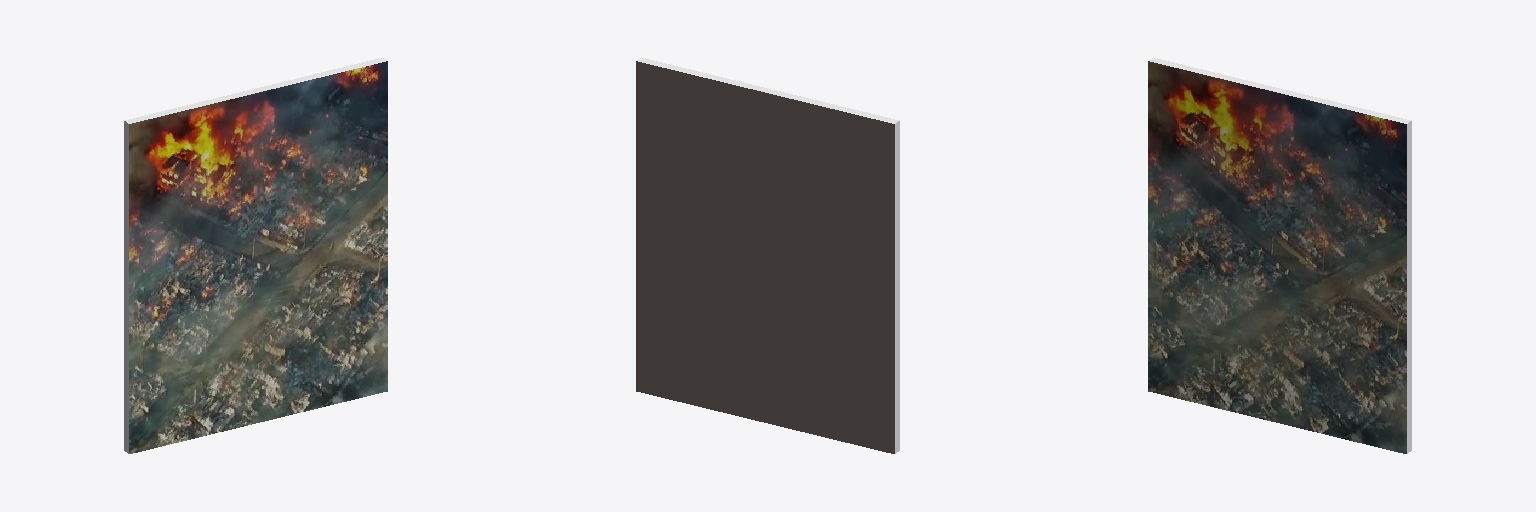
3 views of the same model, side by side, from view 1: azimuth 30°, elevation 25°; view 2: azimuth 150°, elevation 25°; view 3: azimuth 330°, elevation 25° (orthographic).
Visible parts, largest first — view 1: Mesh1 Componente_1_1 Model; view 2: Mesh1 Componente_1_1 Model; view 3: Mesh1 Componente_1_1 Model.
Boxes of the visible parts, box(x1,y1,x2,y2) form: Mesh1 Componente_1_1 Model: box(124, 58, 387, 453); Mesh1 Componente_1_1 Model: box(636, 58, 899, 453); Mesh1 Componente_1_1 Model: box(1148, 58, 1411, 453).
Size of the model in its own units: 90 by 110 by 3.
3 materials, 1 textured.